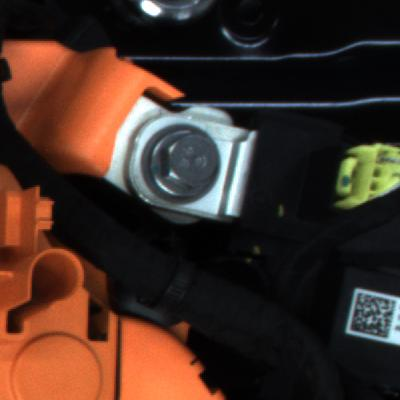nut_b: (138, 125, 217, 205)
